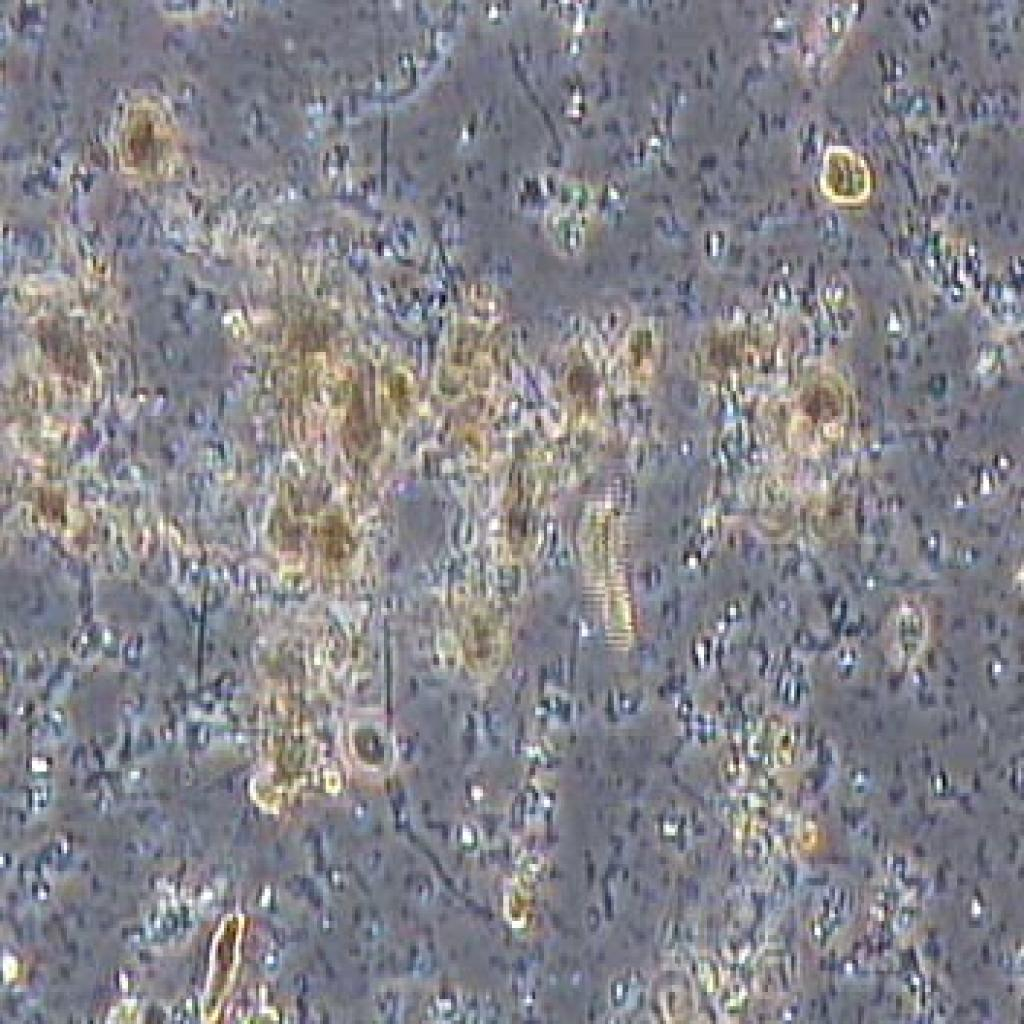Chaetonotus: (575, 496, 650, 699)
